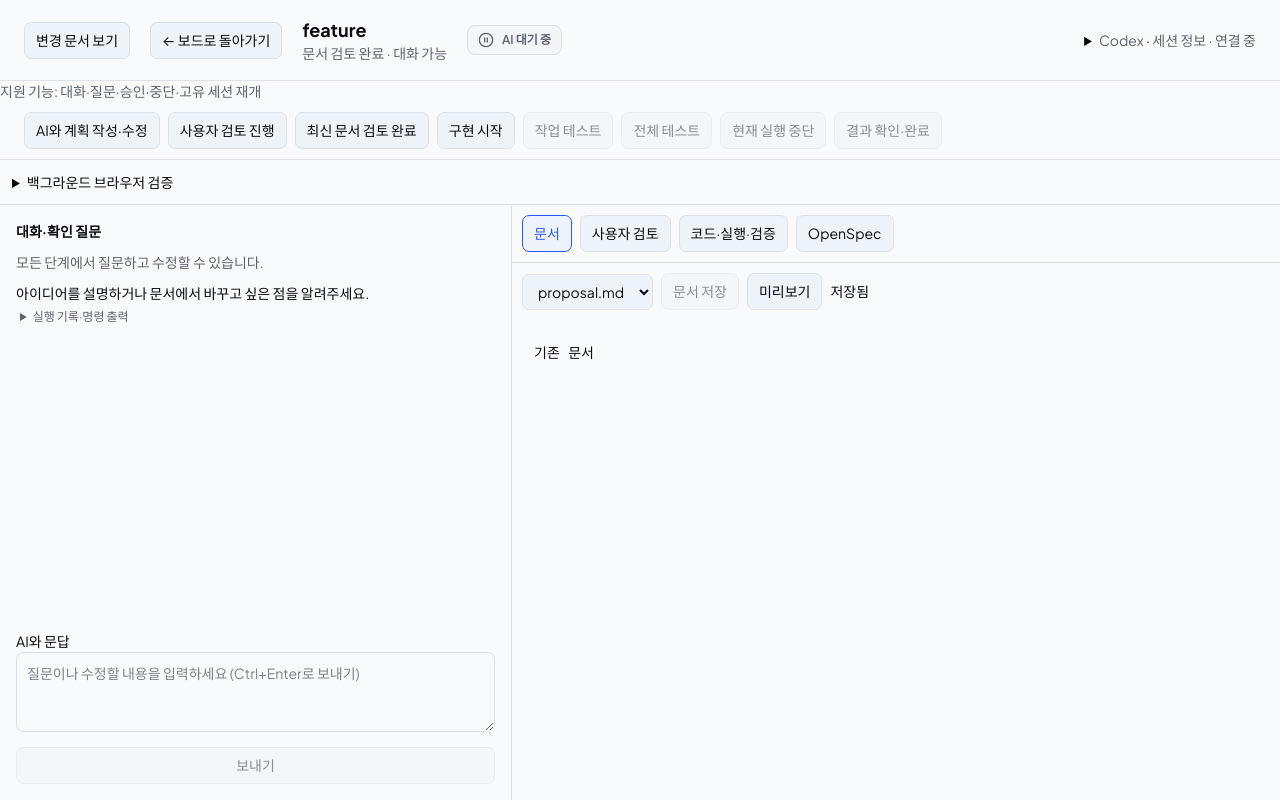
Test case: 업무 공간에서 변경 상세의 문서·검토 탭을 열 수 있다
Check: the text box named "문서 내용" is shown, box top-left (512, 320), bottom-right (1279, 799)
Click the button "변경 문서 보기".
click(77, 40)  # box top-left (24, 22), bottom-right (130, 58)
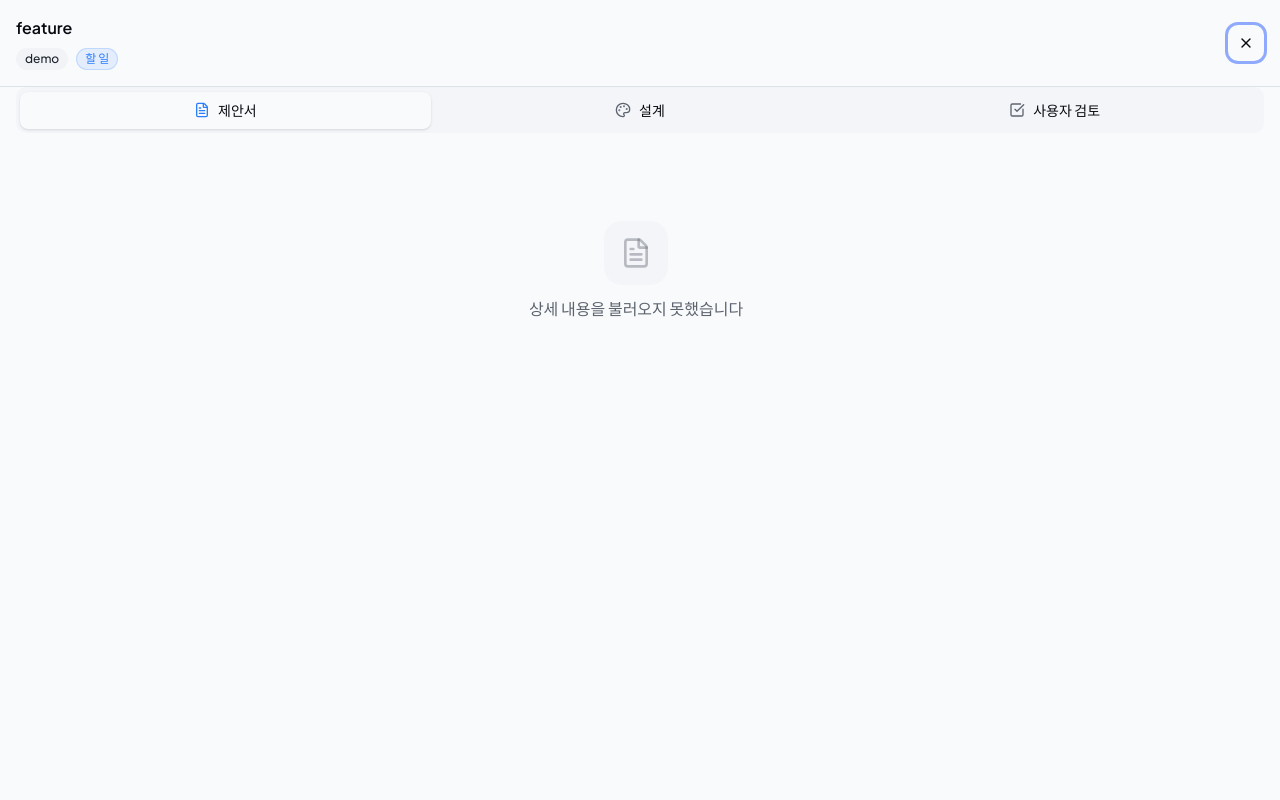
Check: the dialog is shown
Check: the tab "사용자 검토" is shown, box top-left (849, 92), bottom-right (1260, 128)
